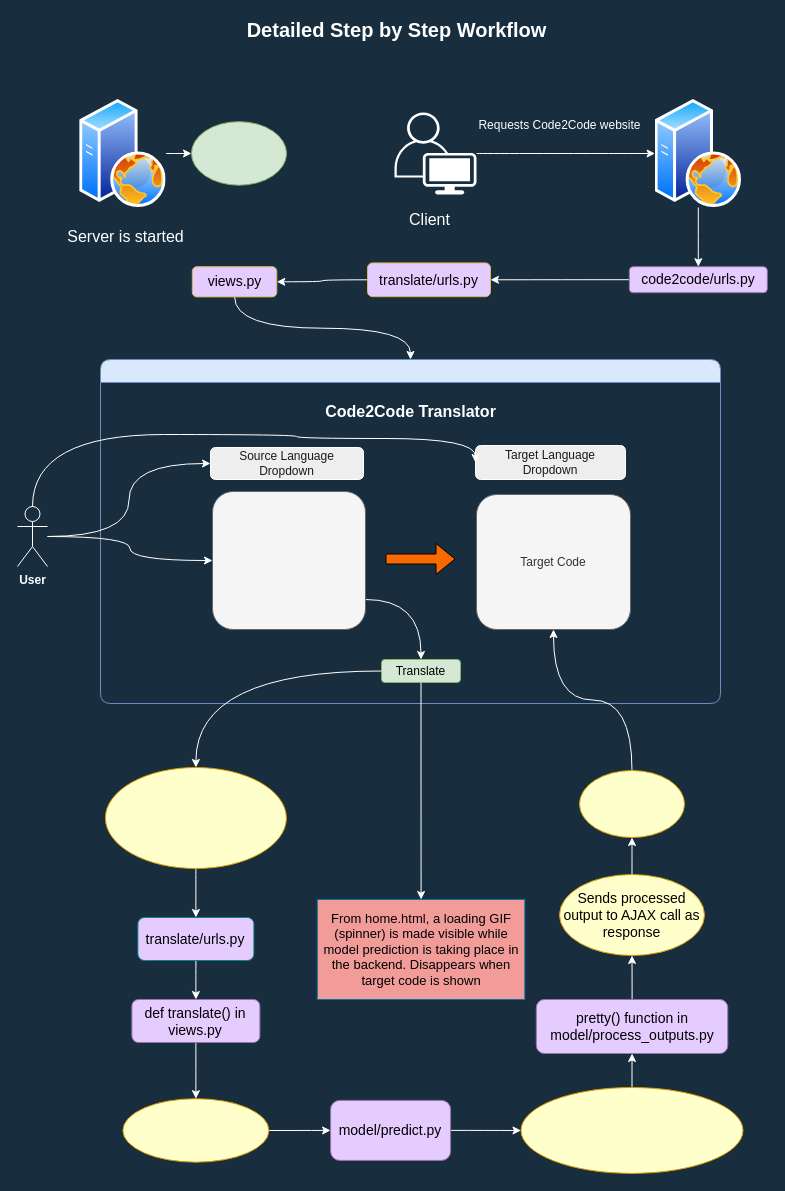
This 785x1191 diagram has some shape labels left out. Each missing label, with the box of its shape:
AJAX call sends data to "/translate" url as POST request: (104, 766, 286, 868)
Extracts data and sends to predict.py: (122, 1098, 269, 1162)
Model is initialized: (190, 121, 286, 185)
Populates Target Code: (578, 770, 684, 838)
Source Code: (212, 490, 366, 630)
url = "localhost/home", template = "home.html": (100, 358, 720, 704)
Uses model to predict and then returns raw translated code: (520, 1086, 743, 1173)
